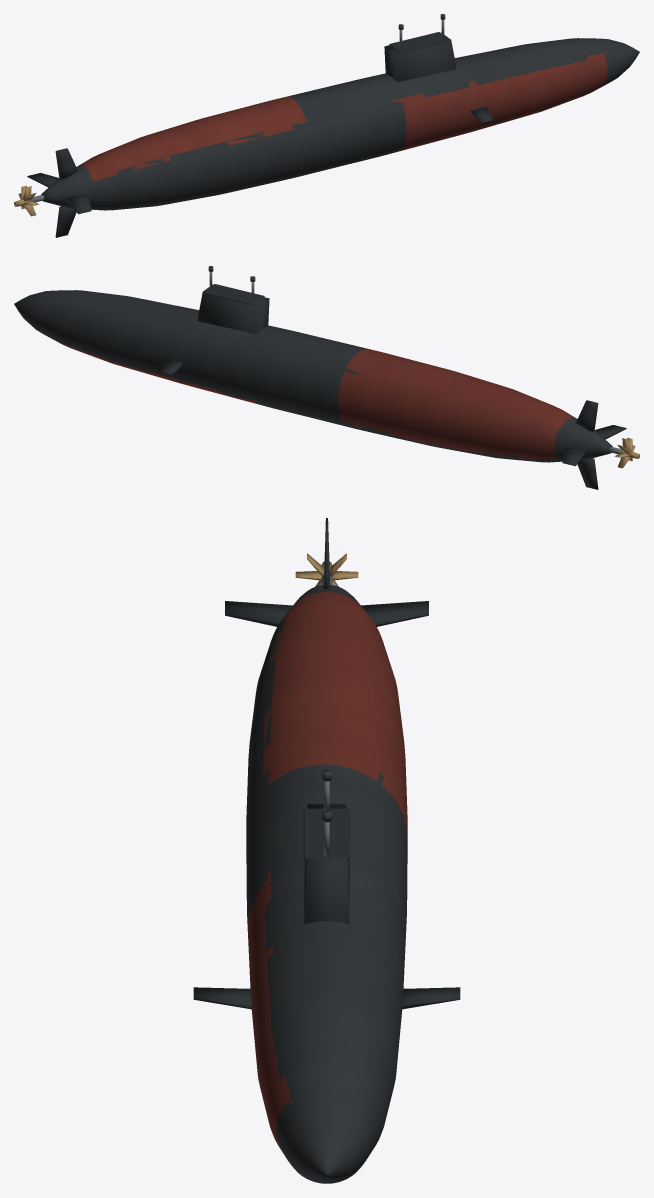
The model's file is UK_SSN_Dreadnought_LOD1.fbx.
3 renders of one model, top to bottom at view 1: azimuth 30°, elevation 25°; view 2: azimuth 150°, elevation 25°; view 3: azimuth 270°, elevation 25°, orthographic. The views are drawn at different scales.
Parts seen in each view (by area): view 1: UK_SSN_Dreadnought_LOD1; view 2: UK_SSN_Dreadnought_LOD1; view 3: UK_SSN_Dreadnought_LOD1.
Boxes of the visible parts, x1=… form: UK_SSN_Dreadnought_LOD1: x1=14, y1=14, x2=639, y2=237; UK_SSN_Dreadnought_LOD1: x1=14, y1=266, x2=639, y2=489; UK_SSN_Dreadnought_LOD1: x1=193, y1=518, x2=460, y2=1183.
Bounding box in the file's own units: 84.75 × 15.66 × 16.63.
Materials: 6 (1 with a texture image).
